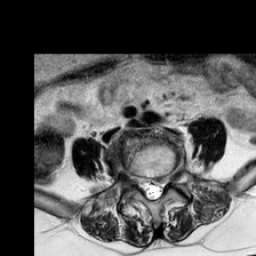CCS_normal: (148, 167, 155, 207)
LFS_normal: (163, 163, 171, 192)
LLS_normal: (155, 169, 163, 201)
RFS_normal: (132, 164, 140, 194)
RLS_normal: (140, 165, 148, 202)
